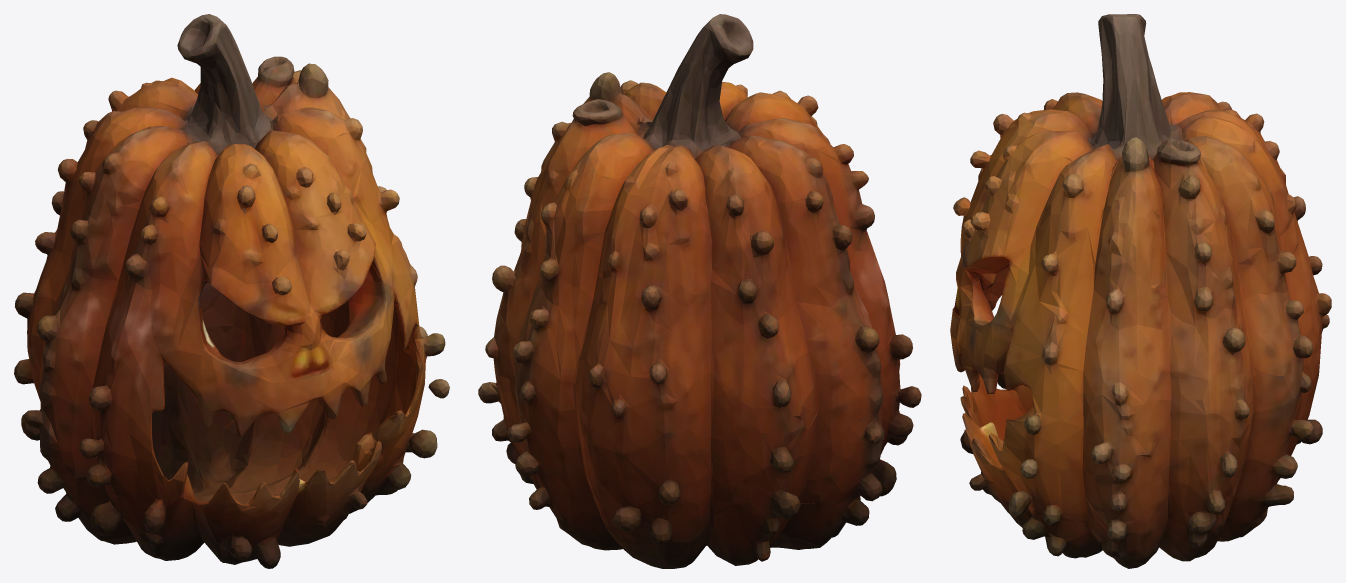
Rendered from pumpkin_jackolantern_warty_grin.glb.
3 views of the same model, side by side, from view 1: azimuth 30°, elevation 25°; view 2: azimuth 150°, elevation 25°; view 3: azimuth 270°, elevation 25° (orthographic). The views are drawn at different scales.
Parts seen in each view (by area): view 1: geometry_0; view 2: geometry_0; view 3: geometry_0.
Boxes of the visible parts, x1=… form: geometry_0: x1=14, y1=14, x2=449, y2=568; geometry_0: x1=478, y1=14, x2=921, y2=568; geometry_0: x1=950, y1=14, x2=1331, y2=568.
Size of the model in its own units: 0.771 by 0.9983 by 0.6933.
1 material, 1 textured.
